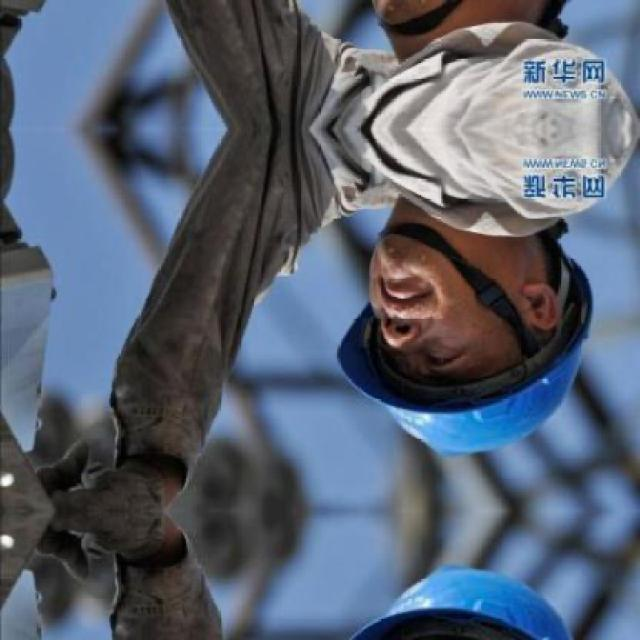con casco: (312, 186, 629, 497)
